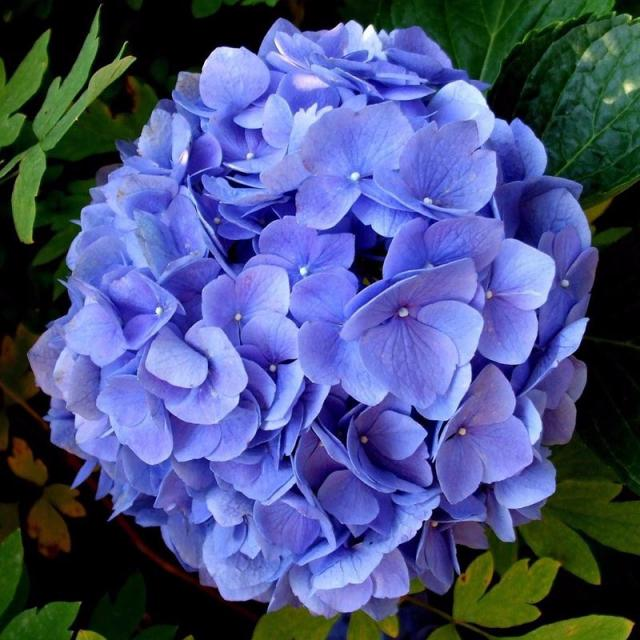Flower: (35, 15, 608, 618)
